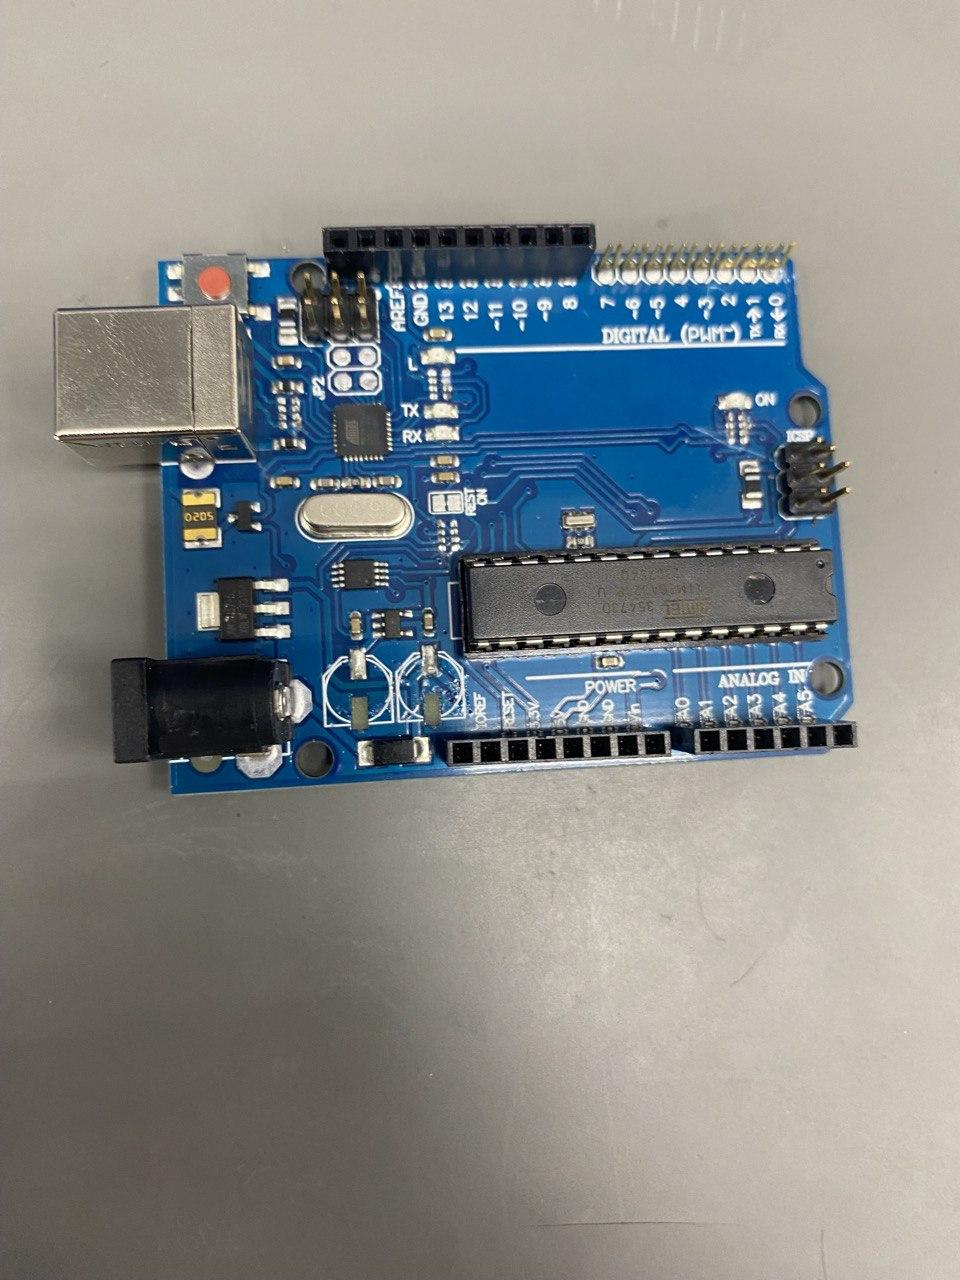ATmega328 chip: (456, 538, 839, 657)
Arduino board: (52, 224, 857, 796)
USB: (51, 304, 258, 474)
pins: (321, 224, 599, 287), (434, 726, 672, 770), (672, 719, 858, 755)
